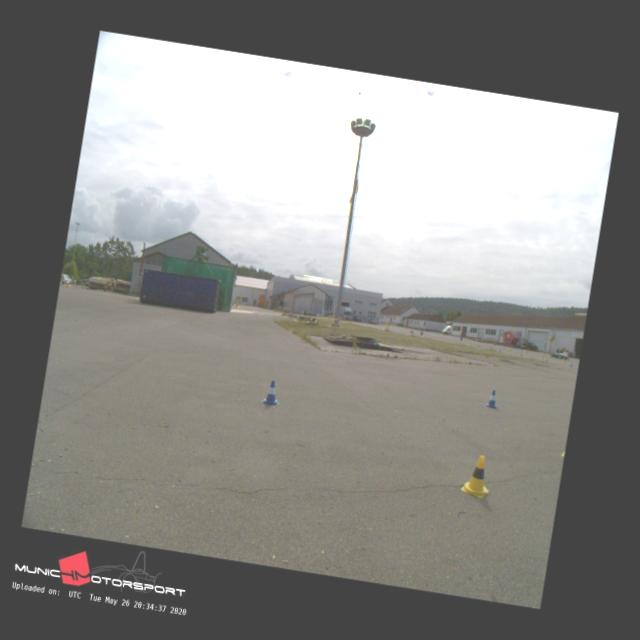blue_cone: (261, 380, 282, 406), (486, 388, 499, 408)
yellow_cone: (461, 454, 494, 498)
